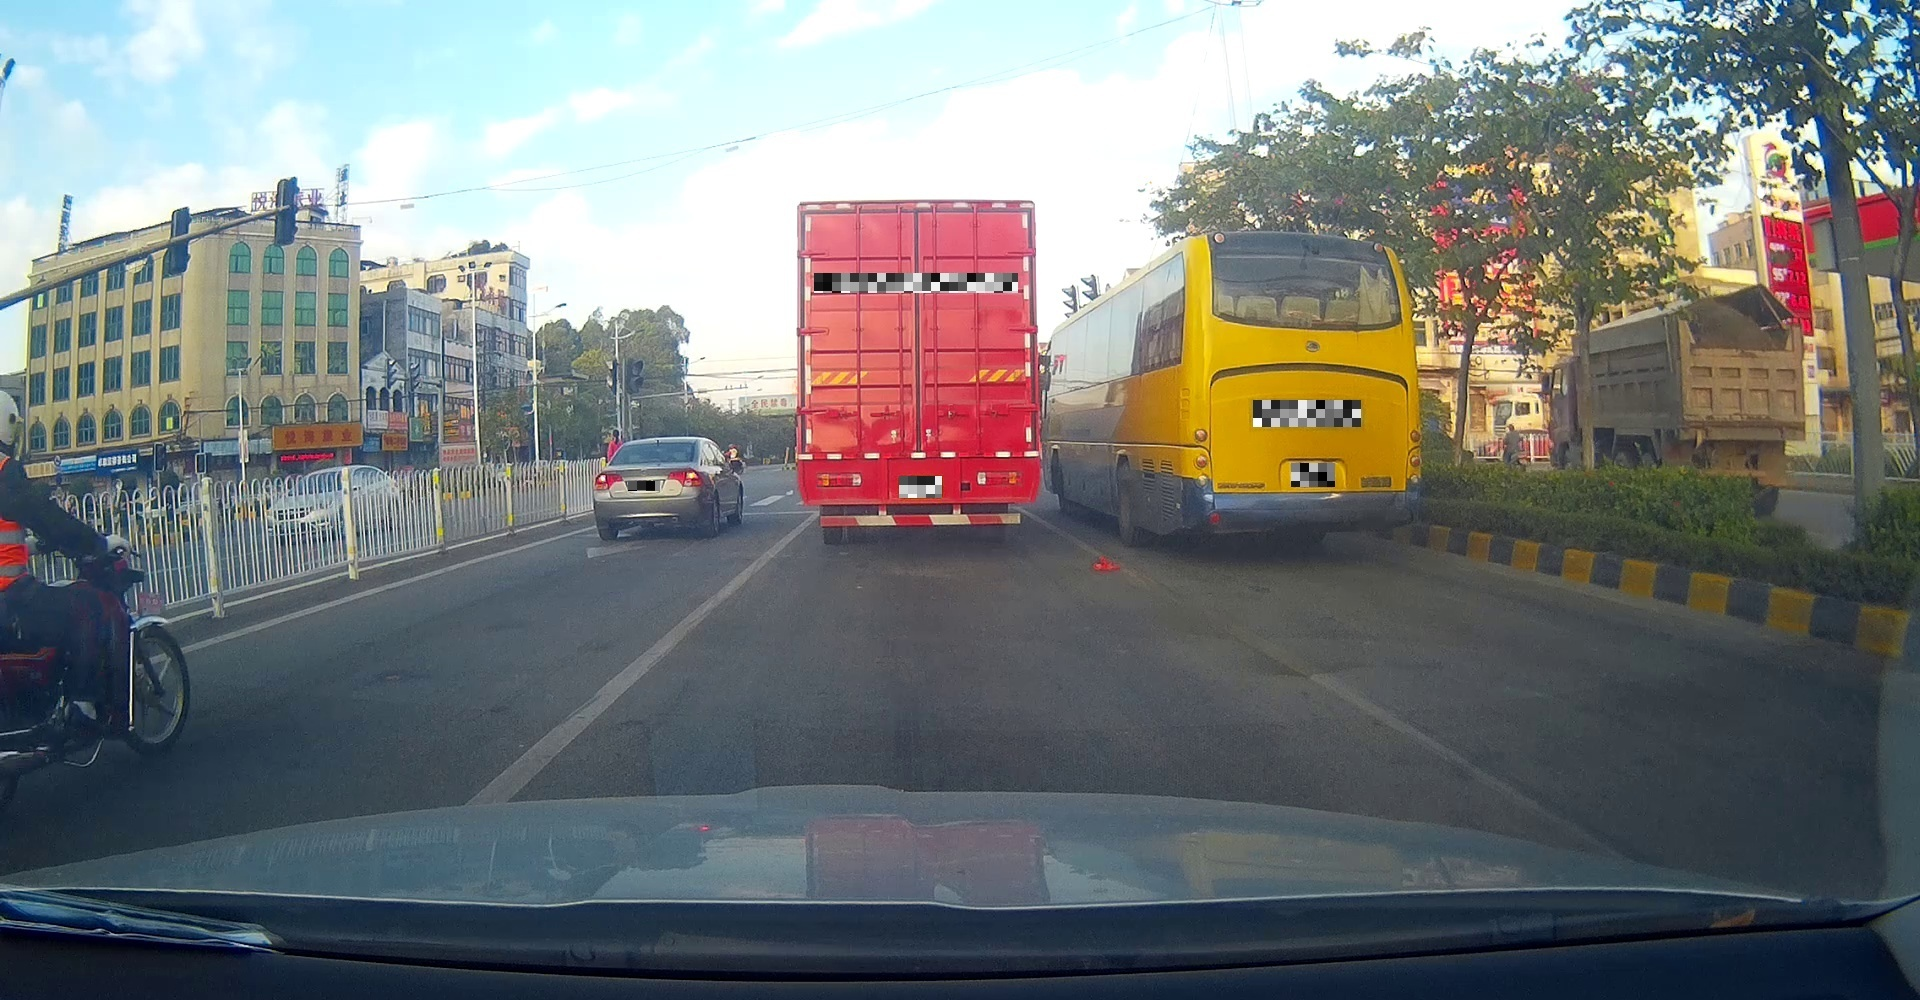L_light: (1192, 429, 1211, 490), (815, 473, 862, 486), (594, 473, 623, 491)
R_light: (977, 470, 1023, 486), (1407, 429, 1421, 484), (665, 470, 703, 486)
T_light: (1297, 319, 1343, 331), (899, 209, 935, 221), (650, 443, 665, 448)
day-brake: (593, 437, 705, 541)
day-no: (795, 199, 1043, 544), (1191, 231, 1422, 549)
plate_1: (629, 481, 660, 491)
plate_2: (814, 273, 1018, 293)
plate_3: (899, 476, 942, 497)
plate_4: (1253, 400, 1361, 426)
plate_5: (1291, 463, 1335, 487)
